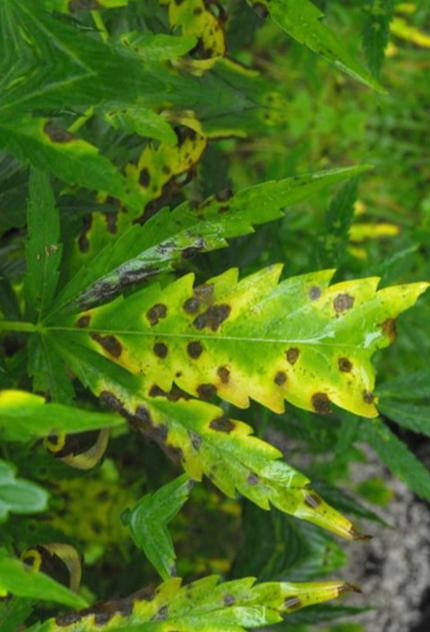Tomato leaf bacterial spot: (57, 209, 430, 440), (37, 341, 377, 551), (0, 99, 161, 226), (0, 339, 132, 489)
